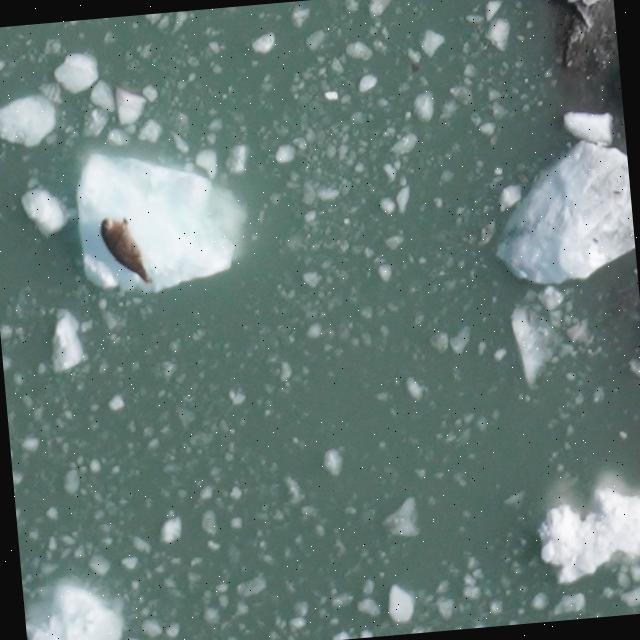seal: (95, 209, 155, 294)
